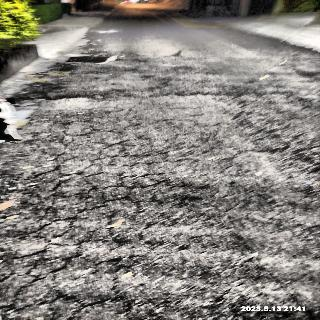alligator-crack: (22, 164, 126, 319), (232, 96, 320, 169), (110, 132, 172, 215)
crack: (264, 268, 320, 320), (4, 216, 29, 320), (16, 92, 320, 100)
